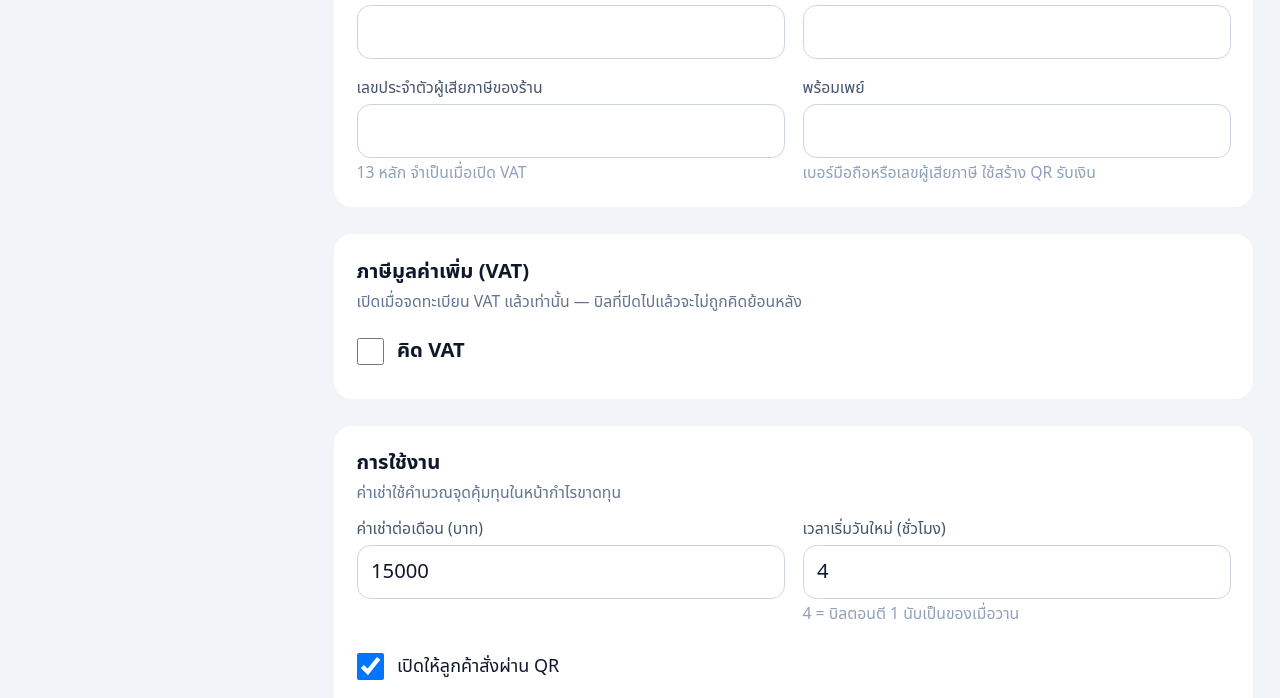
Scenario: the settings form › hides the VAT fields until the switch is on
This screenshot has width=1280, height=698.
(page scrolled)
Expected: the field labelled "อัตรา" is not shown
Click the checkbox labelled "คิด VAT": [370, 351] box top-left (356, 338), bottom-right (384, 365)
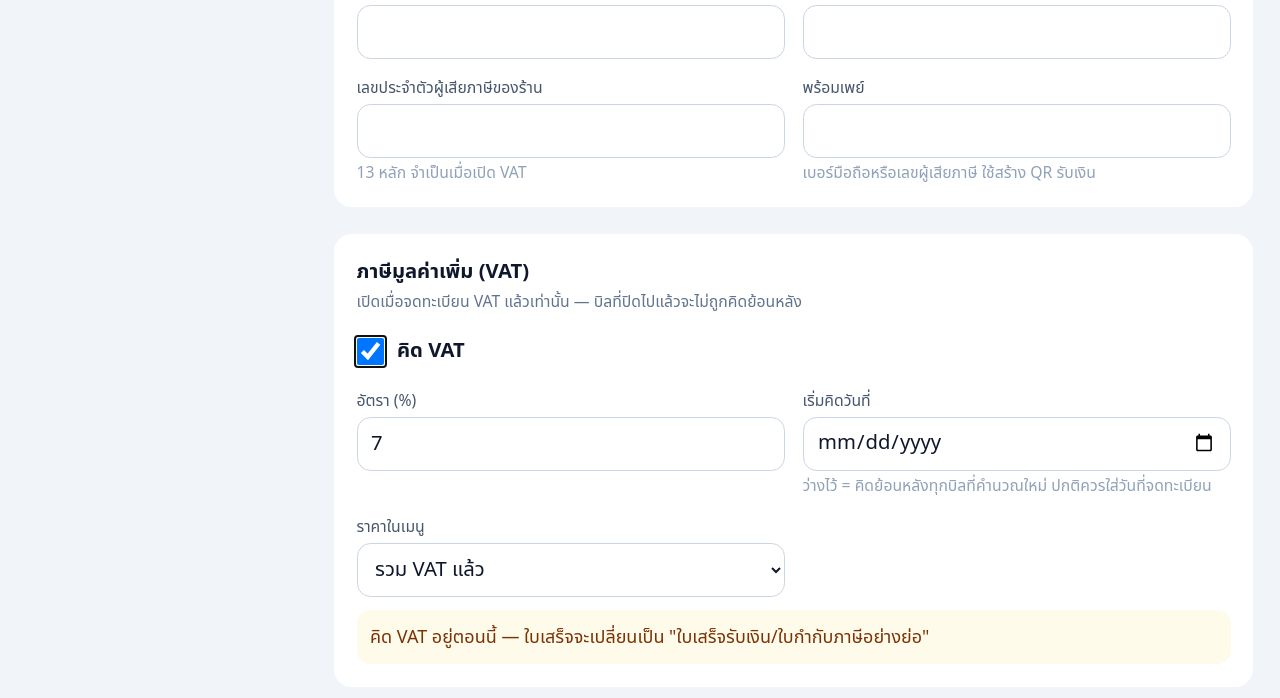
Result: the field labelled "อัตรา (%)" holds "7" at top-left (356, 416), bottom-right (784, 470)
